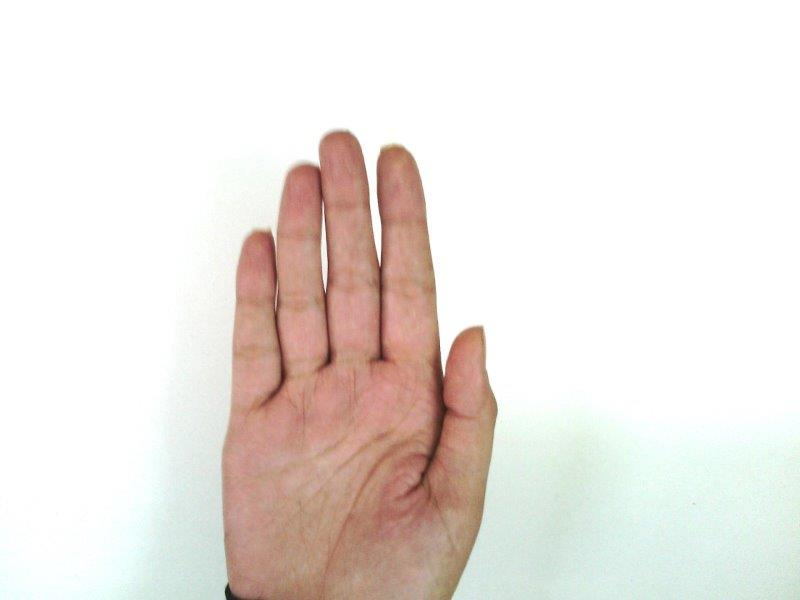hand: (221, 131, 497, 600)
